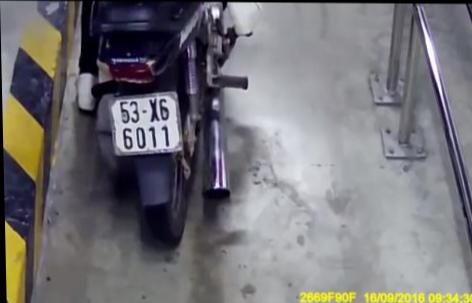LP: (104, 91, 184, 156)
